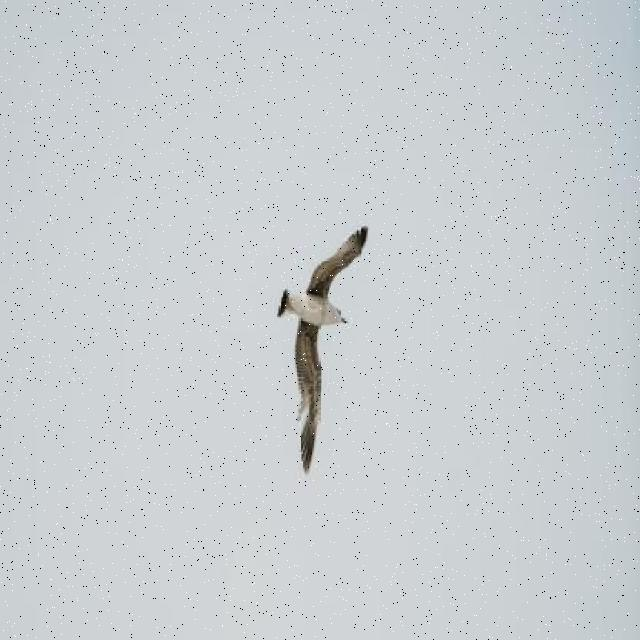bird: (276, 226, 369, 474)
